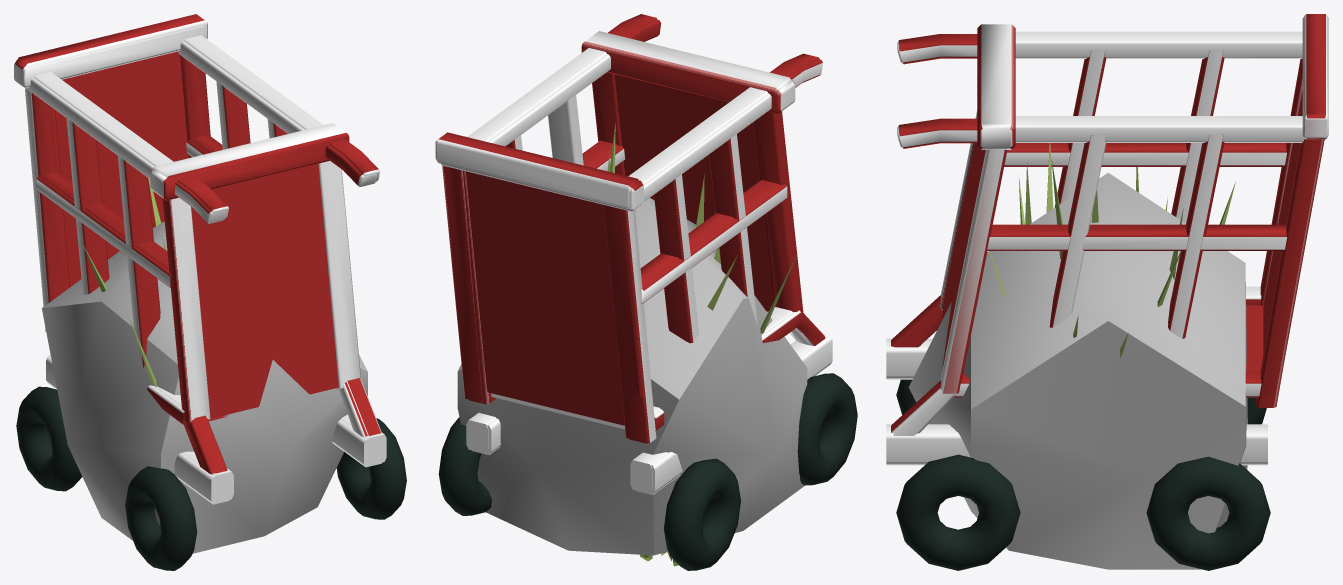
The model's file is stoneRear.dae.
The picture shows the model from 3 angles, left to right: view 1: azimuth 30°, elevation 25°; view 2: azimuth 150°, elevation 25°; view 3: azimuth 270°, elevation 25°; orthographic projection. The views are drawn at different scales.
Parts seen in each view (by area): view 1: pCube35, pCube35.001, pCube38, pTorus13, pTorus14, grass.002; view 2: pCube35, pCube38, pCube35.001, pTorus14, pTorus13, grass.002; view 3: pCube38, pCube35, pTorus13, pTorus14, pCube35.001, grass.002.
Part boxes in pixels (<box>): pCube35: <box>17,14,386,502</box>; pCube35.001: <box>14,25,381,504</box>; pCube38: <box>42,221,367,553</box>; pTorus13: <box>125,418,406,570</box>; pTorus14: <box>16,386,82,491</box>; grass.002: <box>82,178,165,386</box>; pCube35: <box>435,14,827,493</box>; pCube38: <box>457,198,807,555</box>; pCube35.001: <box>440,20,832,494</box>; pTorus14: <box>438,417,740,570</box>; pTorus13: <box>797,373,857,485</box>; grass.002: <box>607,123,797,566</box>; pCube38: <box>908,172,1247,569</box>; pCube35: <box>886,14,1328,465</box>; pTorus13: <box>896,379,1020,570</box>; pTorus14: <box>1146,397,1270,570</box>; pCube35.001: <box>886,14,1324,424</box>; grass.002: <box>989,143,1235,358</box>.
Size of the model in its own units: 1.62 by 2.13 by 2.63.
Materials: 4 (3 with a texture image).
